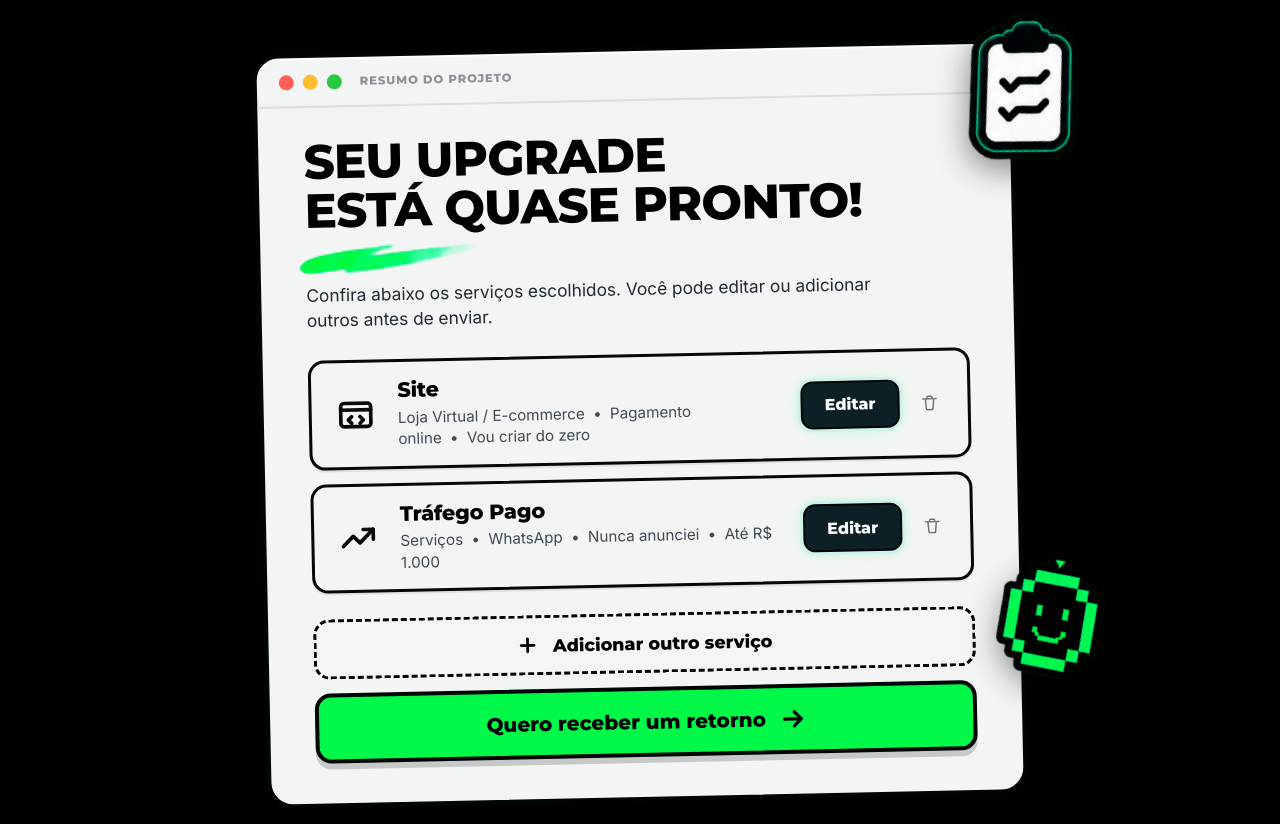
Test: ProjectReview — integração (Etapa 11) › remover um serviço a partir do resumo (entre vários) preserva os demais e permanece no resumo
Click the button named "Remover Site". click: (930, 403)
box: [907, 380, 952, 425]
(page scrolled)
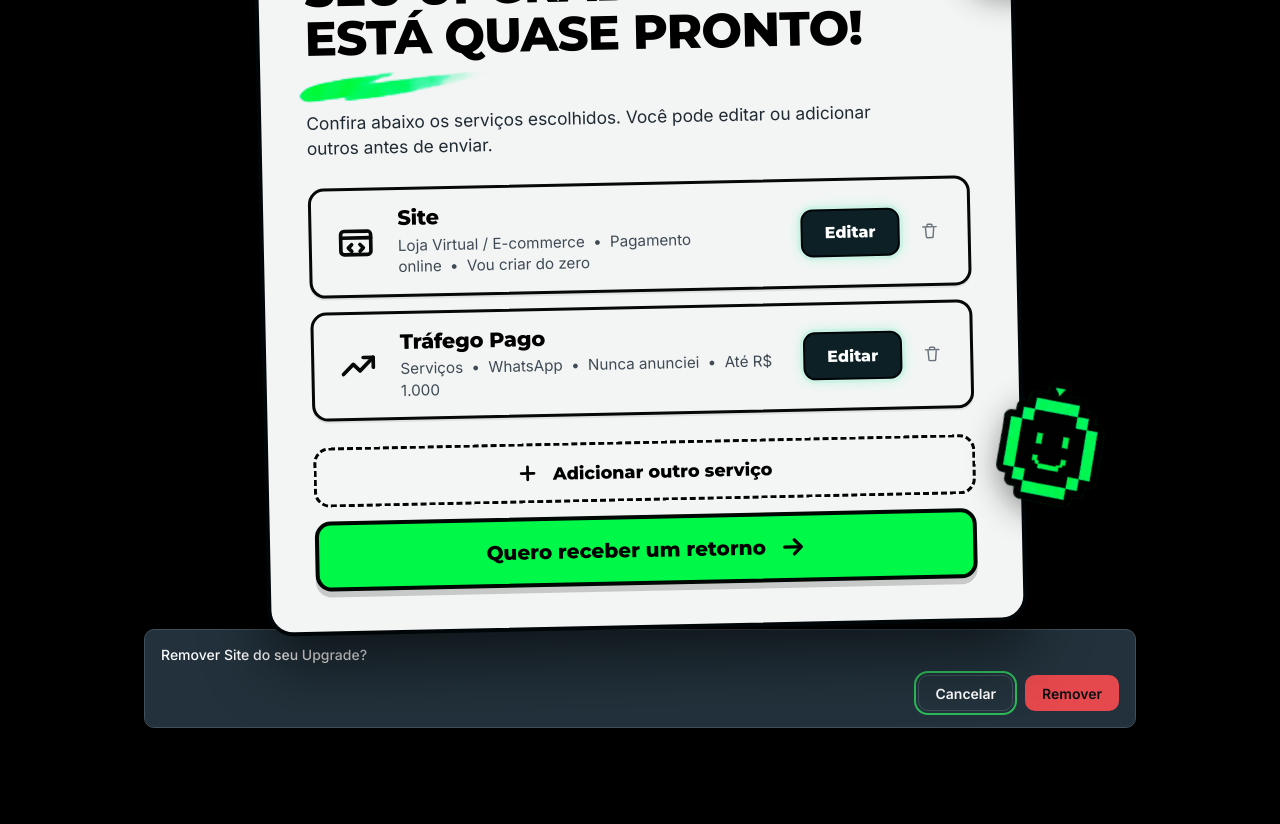
Click the button "Remover". click: (1072, 693)
box: [1025, 675, 1119, 711]
(page scrolled)
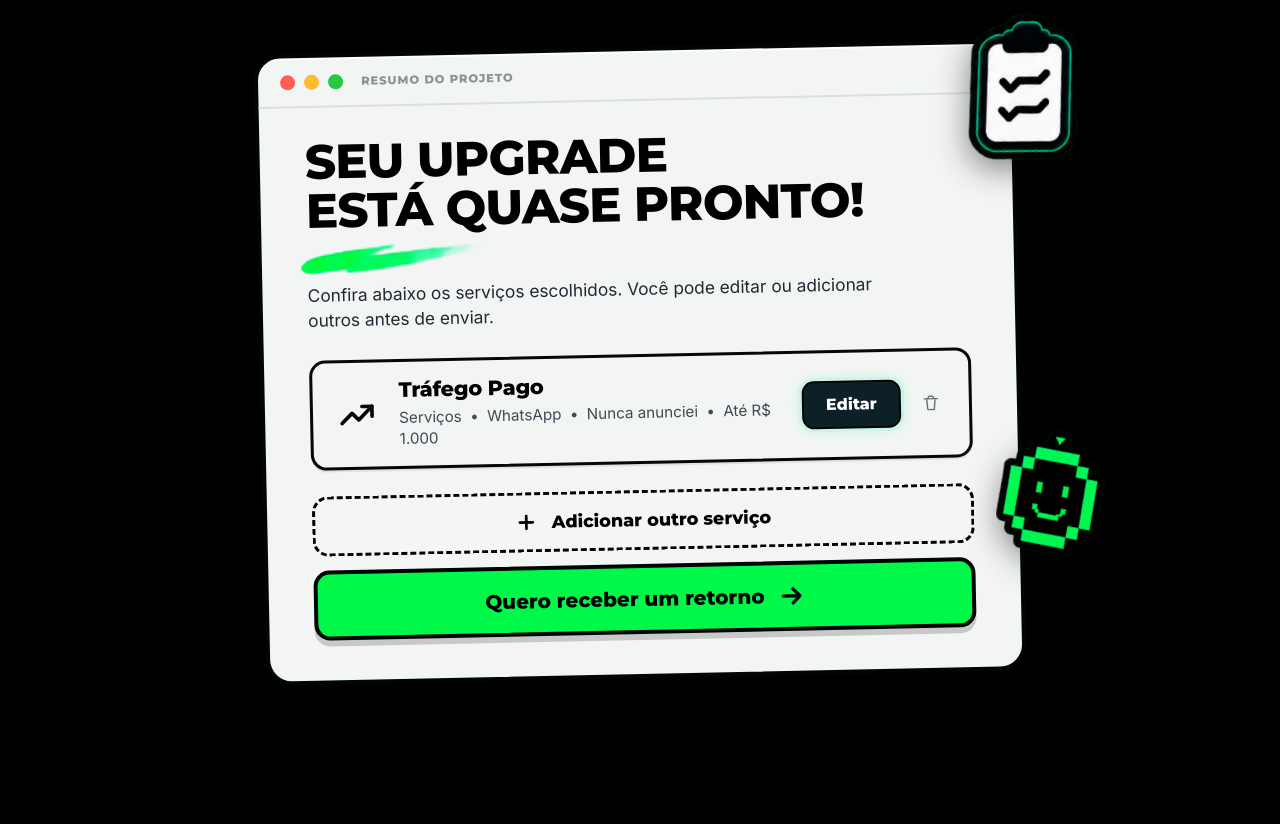
Expected: the heading "Seu Upgrade está quase pronto!" is shown, [304, 125, 864, 240]
Result: the heading "Site" is gone
